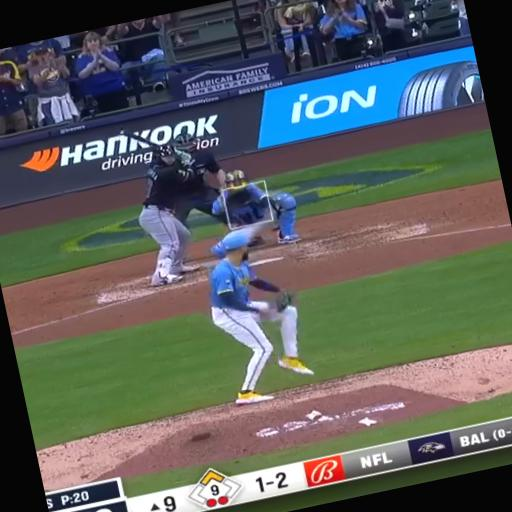bat: (120, 129, 159, 147)
